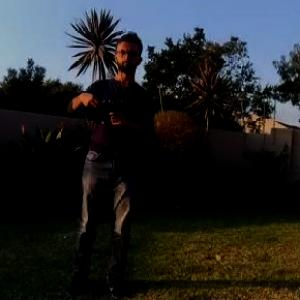follow: (59, 24, 159, 299)
